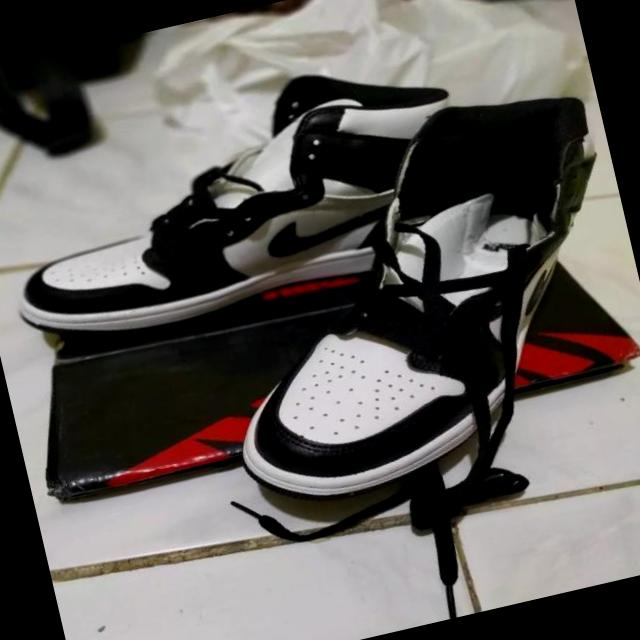nike_fake_jordan: (166, 74, 640, 519), (0, 39, 491, 358)
